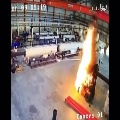fire: (74, 28, 93, 94)
